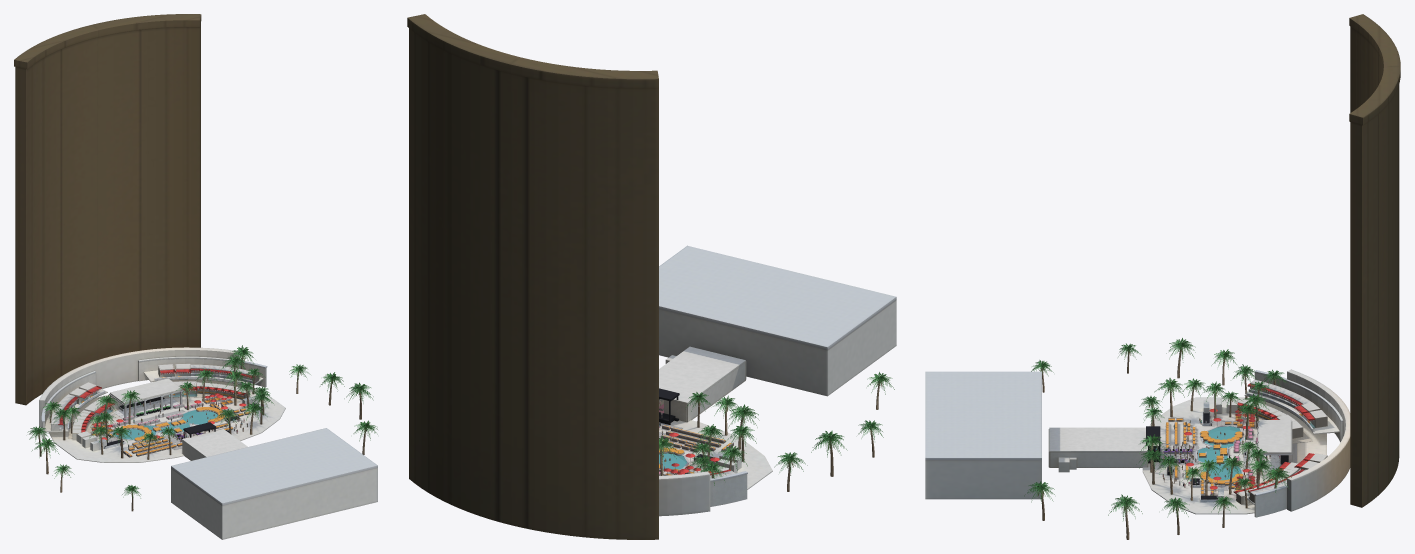
File: encore-beach-club-photo.glb
The picture shows the model from 3 angles, left to right: view 1: azimuth 30°, elevation 25°; view 2: azimuth 150°, elevation 25°; view 3: azimuth 270°, elevation 25°; orthographic projection. The views are drawn at different scales.
Parts seen in each view (by area): view 1: Encore_Tower, Encore_Casino, Deck, Facade, Backstage_Roof, Gaming_Roof, Terrace_Upper, Gaming_Pavilion, Pool_Water, Pool_Basin; view 2: Encore_Tower, Encore_Casino, Backstage_Roof, Deck, Backstage_Walls, Facade; view 3: Encore_Tower, Encore_Casino, Deck, Backstage_Roof, Facade, Backstage_Walls, Gaming_Roof, Pool_Water, Pool_Basin, Walkway_Paths, Terrace_Upper.
Boxes of the visible parts, x1=… form: Encore_Tower: x1=14, y1=14, x2=201, y2=405; Encore_Casino: x1=39, y1=347, x2=377, y2=539; Deck: x1=49, y1=379, x2=285, y2=462; Facade: x1=41, y1=356, x2=267, y2=439; Backstage_Roof: x1=182, y1=429, x2=247, y2=457; Gaming_Roof: x1=109, y1=378, x2=183, y2=405; Terrace_Upper: x1=45, y1=369, x2=263, y2=432; Gaming_Pavilion: x1=109, y1=390, x2=182, y2=418; Pool_Water: x1=113, y1=410, x2=217, y2=439; Pool_Basin: x1=113, y1=410, x2=217, y2=439; Encore_Tower: x1=407, y1=14, x2=658, y2=539; Encore_Casino: x1=659, y1=245, x2=896, y2=516; Backstage_Roof: x1=659, y1=346, x2=745, y2=404; Deck: x1=659, y1=420, x2=772, y2=489; Backstage_Walls: x1=664, y1=355, x2=746, y2=421; Facade: x1=710, y1=471, x2=747, y2=506; Encore_Tower: x1=1349, y1=14, x2=1400, y2=507; Encore_Casino: x1=925, y1=369, x2=1350, y2=511; Deck: x1=1142, y1=397, x2=1326, y2=514; Backstage_Roof: x1=1049, y1=427, x2=1147, y2=451; Facade: x1=1254, y1=370, x2=1343, y2=517; Backstage_Walls: x1=1048, y1=429, x2=1147, y2=472; Gaming_Roof: x1=1258, y1=420, x2=1292, y2=455; Pool_Water: x1=1198, y1=426, x2=1241, y2=480; Pool_Basin: x1=1198, y1=427, x2=1241, y2=479; Walkway_Paths: x1=1160, y1=411, x2=1296, y2=490; Terrace_Upper: x1=1244, y1=392, x2=1339, y2=504.
Size of what is drawn, in the model's own units: 148 by 155 by 169.
72 materials, 71 textured.
